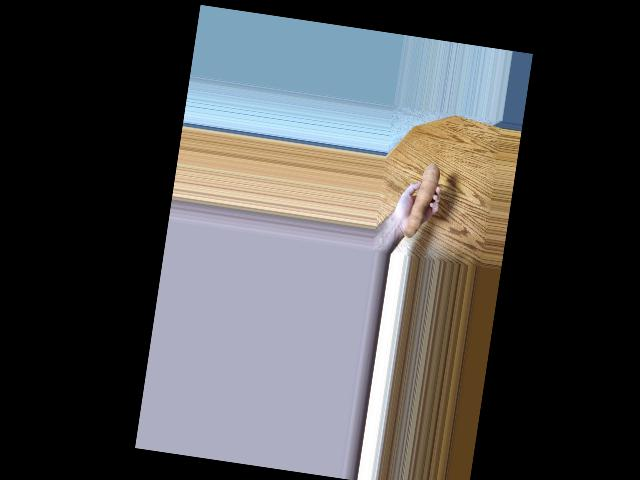sweet_potato: (401, 156, 445, 237)
